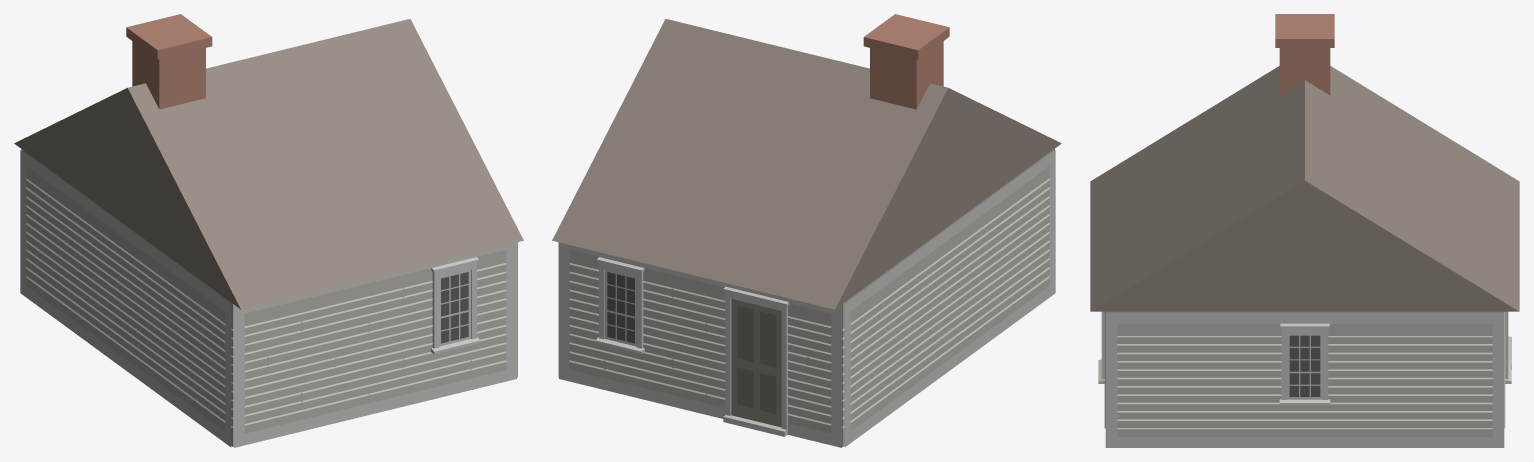
Rendered from recon_1835_blk_washington_clark_d3_15__inferred_1835.glb.
3 views of the same model, side by side, from view 1: azimuth 30°, elevation 25°; view 2: azimuth 150°, elevation 25°; view 3: azimuth 270°, elevation 25° (orthographic). The views are drawn at different scales.
Visible parts, largest first — view 1: recon_1835_blk_washington_clark_d3_15__inferred_1835; view 2: recon_1835_blk_washington_clark_d3_15__inferred_1835; view 3: recon_1835_blk_washington_clark_d3_15__inferred_1835.
Boxes of the visible parts, x1,y1,x2,y2 form: recon_1835_blk_washington_clark_d3_15__inferred_1835: (14, 14, 523, 447); recon_1835_blk_washington_clark_d3_15__inferred_1835: (552, 14, 1061, 447); recon_1835_blk_washington_clark_d3_15__inferred_1835: (1090, 14, 1519, 447).
Size of the model in its own units: 5.24 by 5.63 by 7.07.
